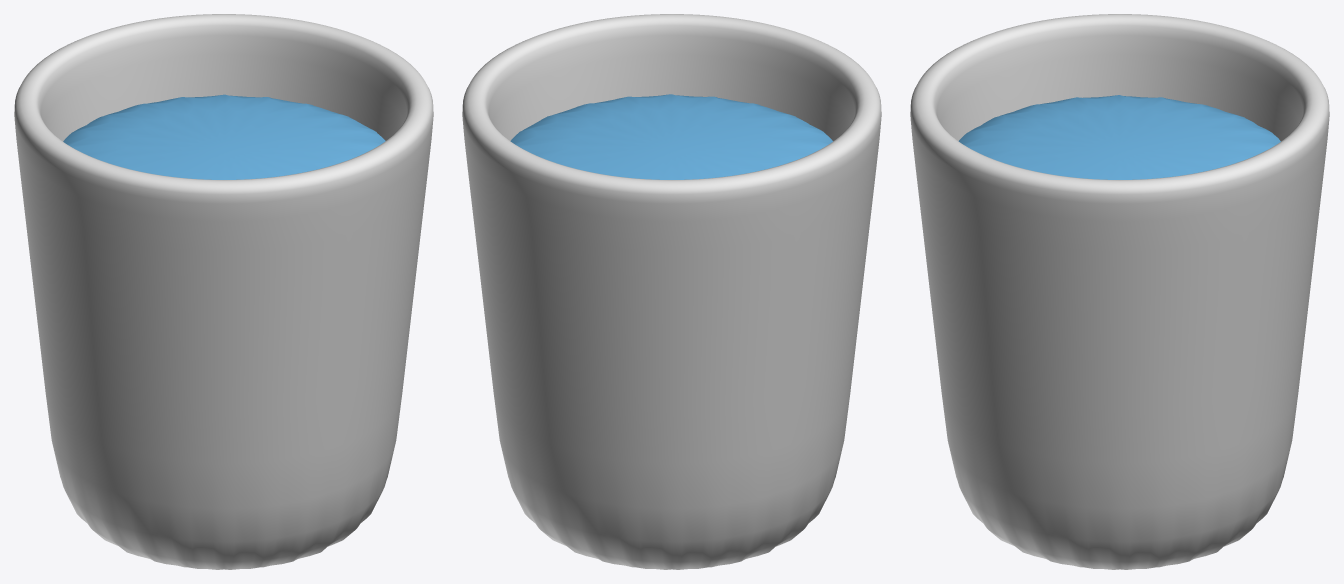
File: NormalCup_75.fbx
3 renders of one model, left to right at view 1: azimuth 30°, elevation 25°; view 2: azimuth 150°, elevation 25°; view 3: azimuth 270°, elevation 25°, orthographic.
Parts seen in each view (by area): view 1: Cylinder, Water_75; view 2: Cylinder, Water_75; view 3: Cylinder, Water_75.
Boxes of the visible parts, left/top/right/bottom form: Cylinder: left=14, top=14, right=433, bottom=569; Water_75: left=63, top=94, right=385, bottom=179; Cylinder: left=462, top=14, right=881, bottom=569; Water_75: left=510, top=94, right=832, bottom=179; Cylinder: left=910, top=14, right=1329, bottom=569; Water_75: left=958, top=95, right=1280, bottom=179.
Bounding box in the file's own units: 2.25 × 2.61 × 2.25.
